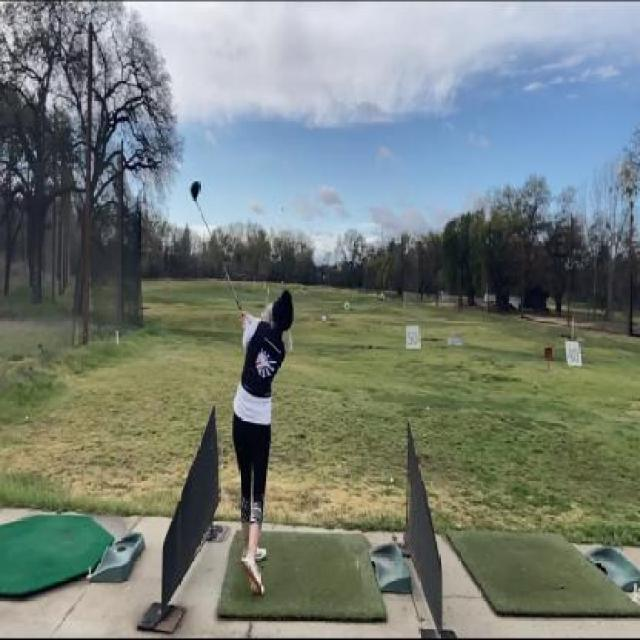club head: (190, 178, 202, 208)
